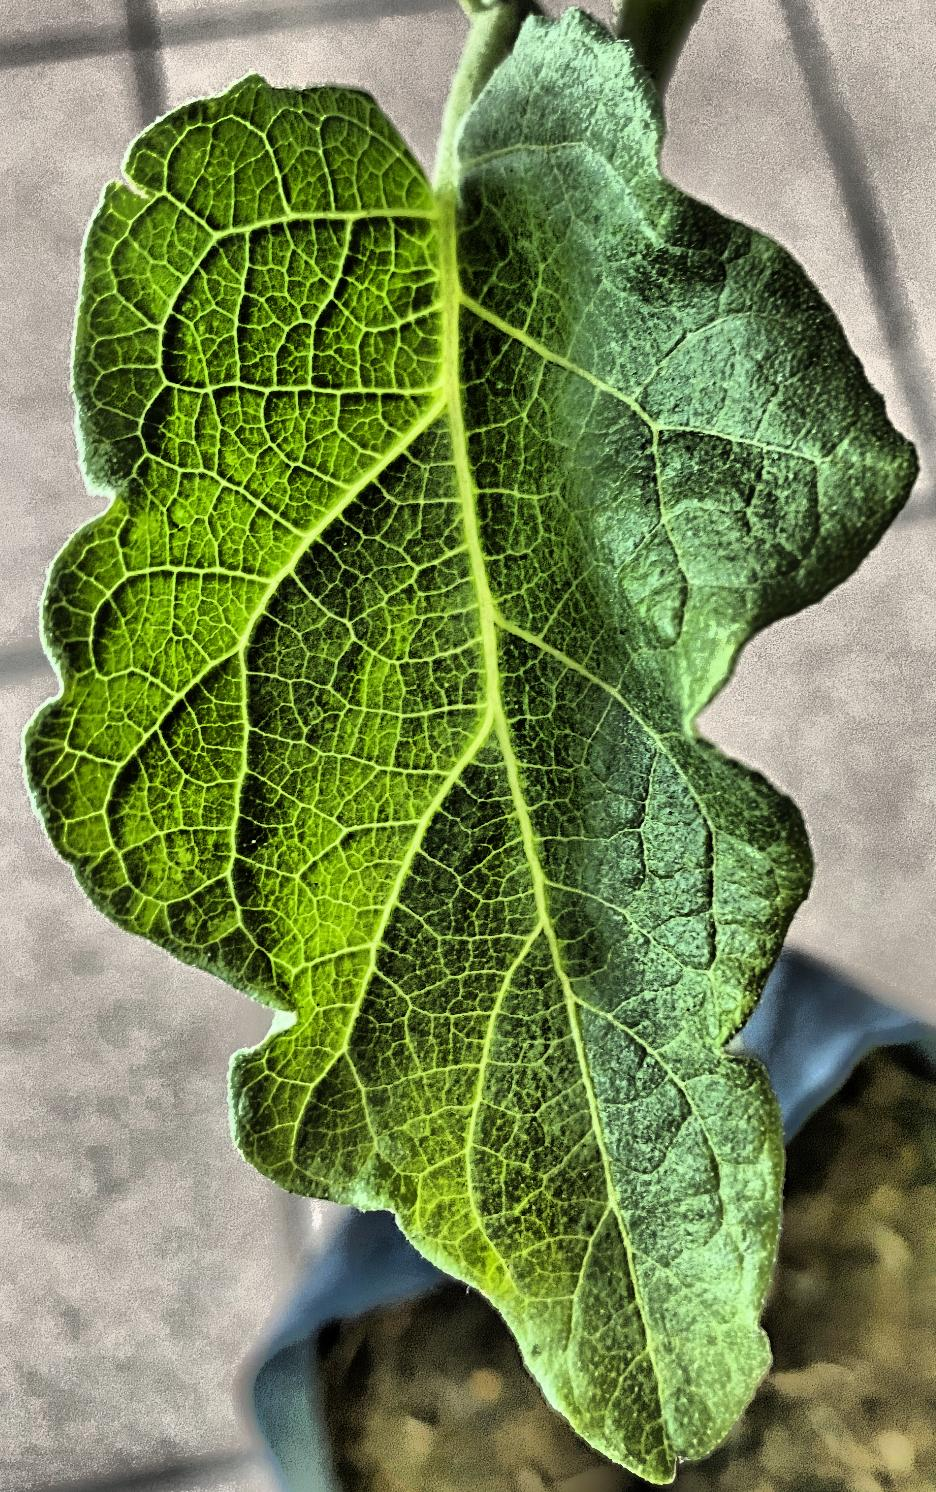HEALTHY: (0, 1, 936, 1492)
